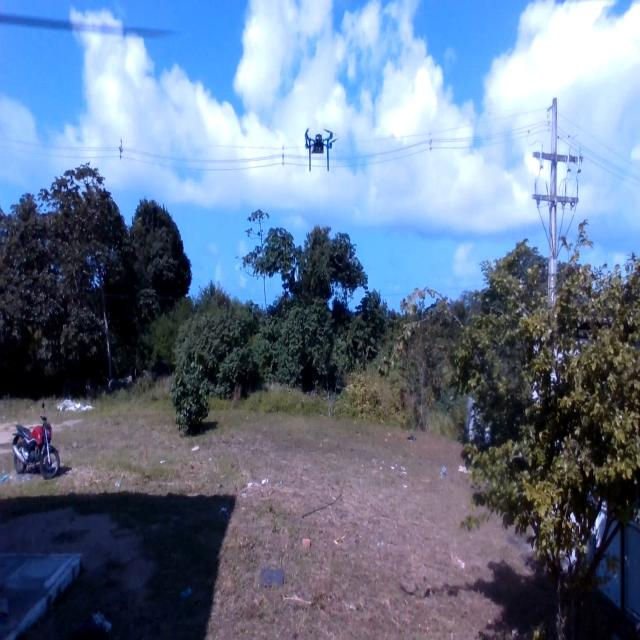-uav-: (296, 117, 340, 178)
